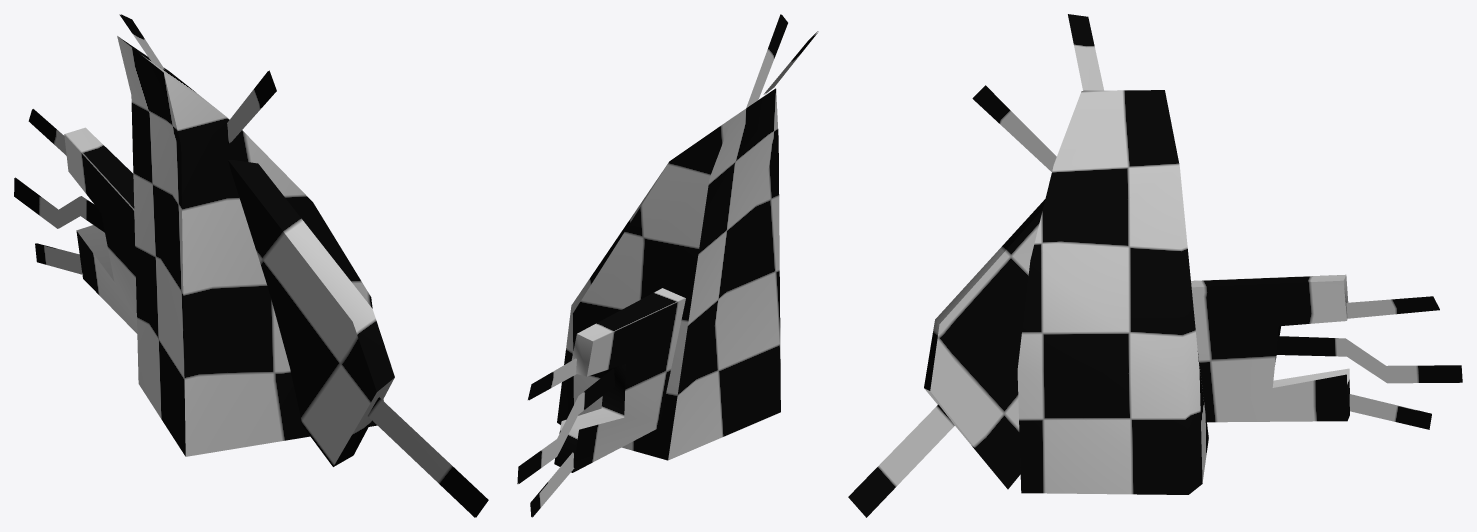
Rendered from eic_scrap.obj.
3 views of the same model, side by side, from view 1: azimuth 30°, elevation 25°; view 2: azimuth 150°, elevation 25°; view 3: azimuth 270°, elevation 25° (orthographic). The views are drawn at different scales.
Visible parts, largest first — view 1: eic_scrap; view 2: eic_scrap; view 3: eic_scrap.
Part boxes in pixels (bbox=[...]): eic_scrap: bbox=[14, 14, 488, 517]; eic_scrap: bbox=[517, 14, 818, 517]; eic_scrap: bbox=[848, 14, 1462, 517].
Bounding box in the file's own units: 54.81 × 106 × 145.
Materials: 1 (1 with a texture image).
